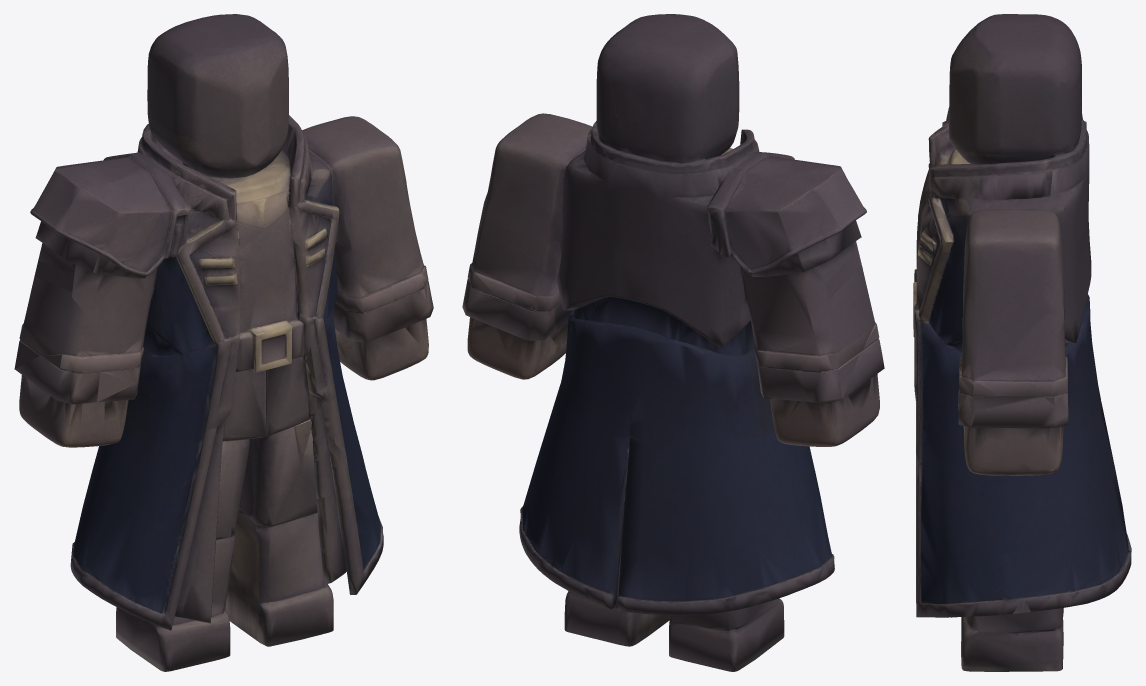
File: paintline_commander.glb
3 views of the same model, side by side, from view 1: azimuth 30°, elevation 25°; view 2: azimuth 150°, elevation 25°; view 3: azimuth 270°, elevation 25° (orthographic).
Bounding box in the file's own units: 1.31 × 2 × 0.6592.
1 material, 1 textured.
